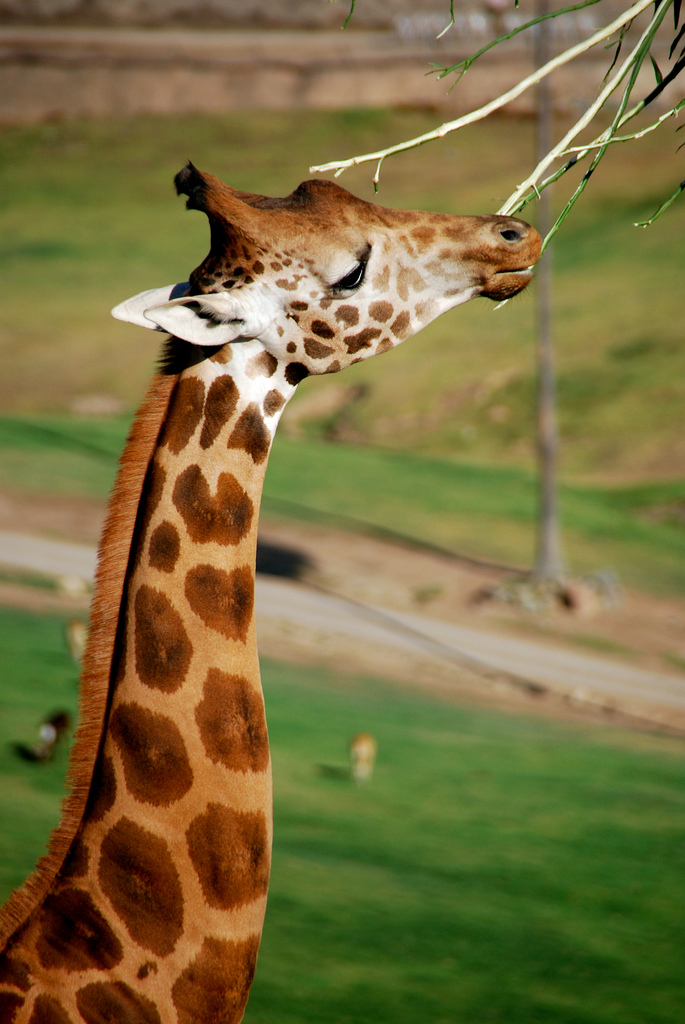giraffe: (90, 143, 558, 984)
